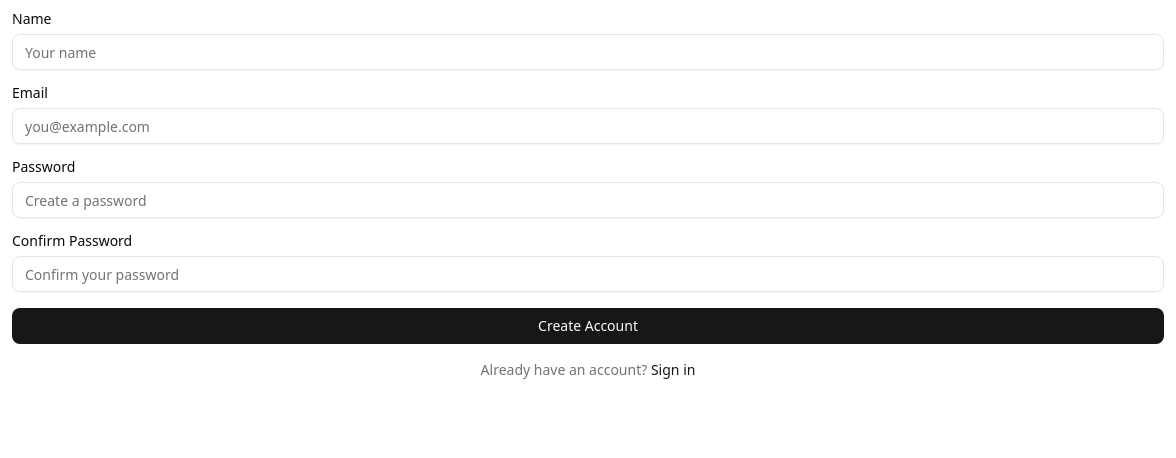
Test case: SignUpForm › shows error when passwords do not match
Type "Test User" into the field labelled "Name" at [588, 52], box [12,34,1164,70]
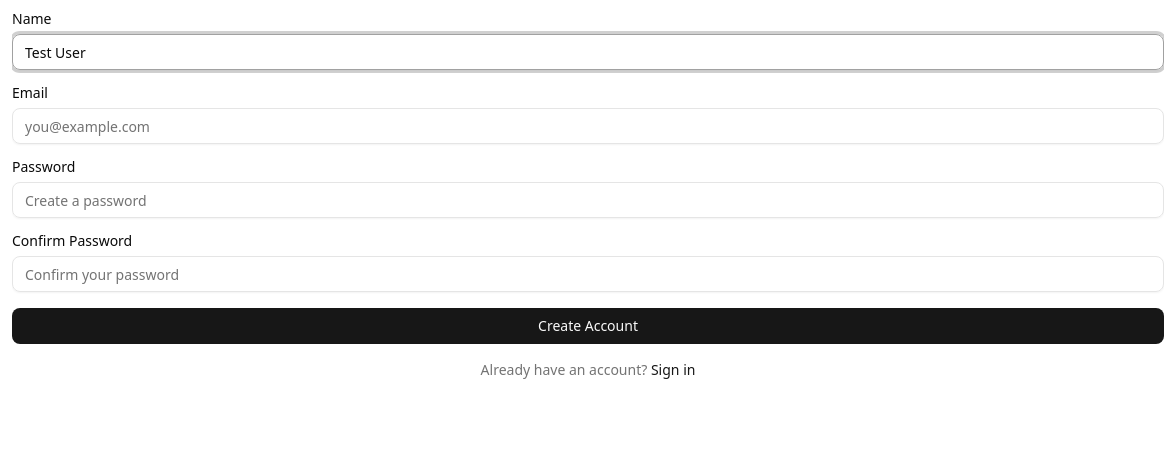
Type "test@example.com" into the field labelled "Email" at [588, 126], box [12,108,1164,144]
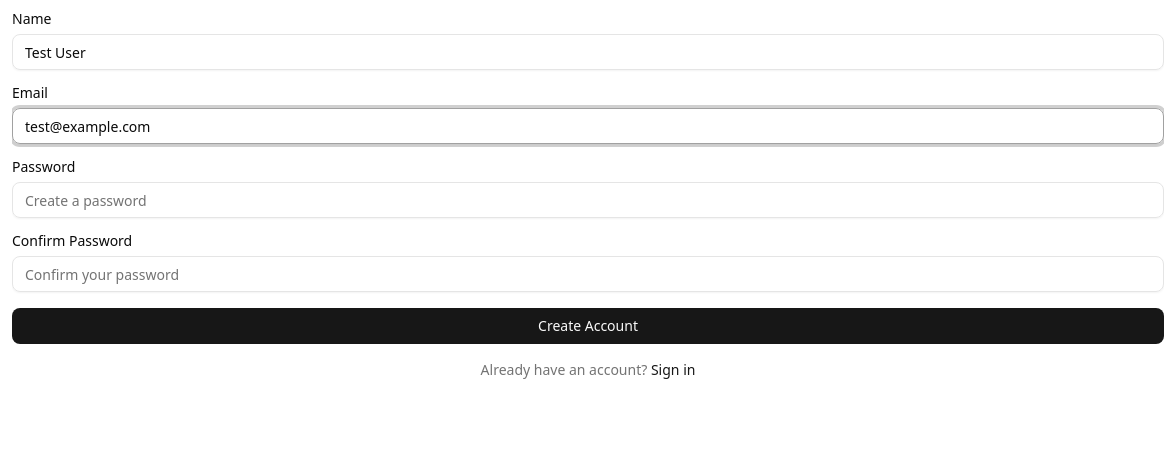
Type "password123" into the password field labelled "Password" at [588, 200], box [12,182,1164,218]
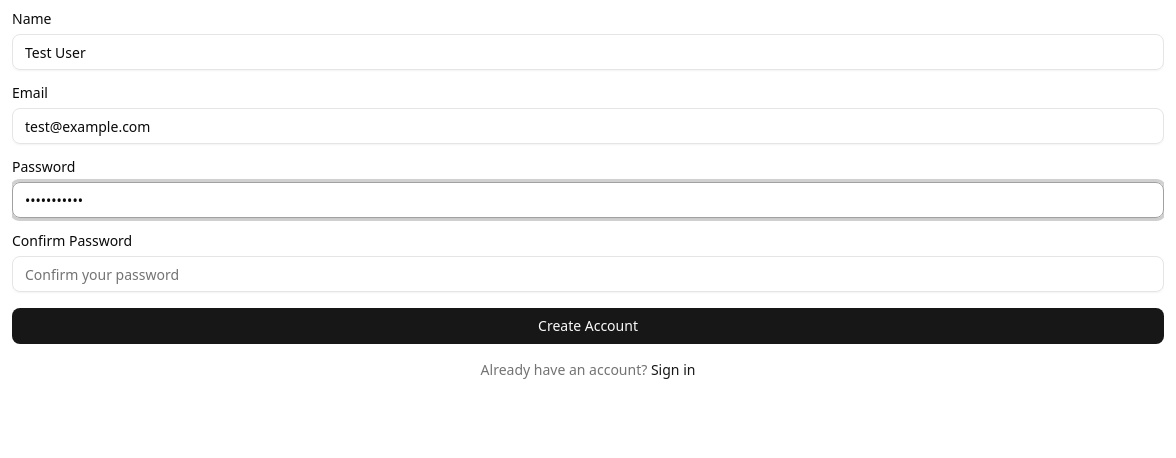
Type "different123" into the password field labelled "Confirm Password" at [588, 274], box [12,256,1164,292]
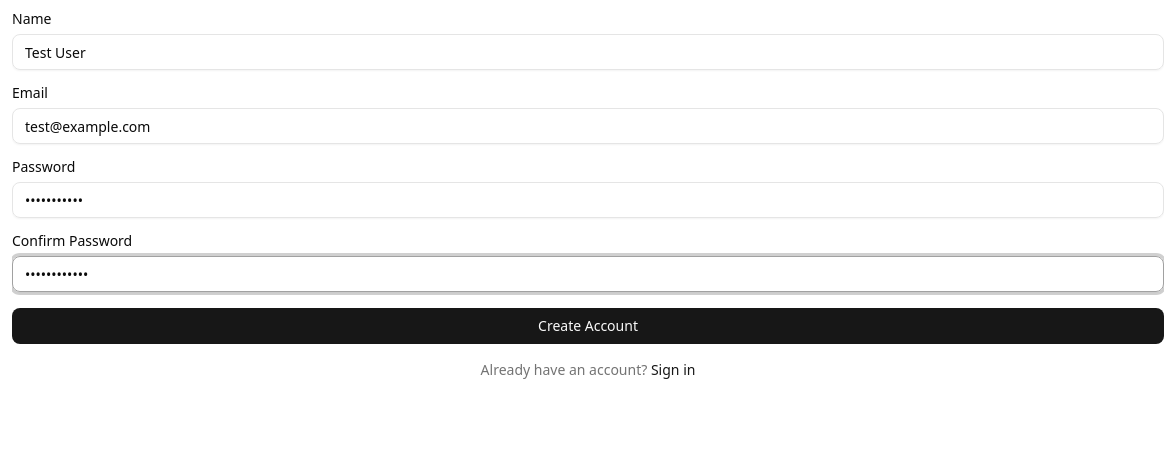
Click the button "Create Account" at [588, 326], box [12,308,1164,344]
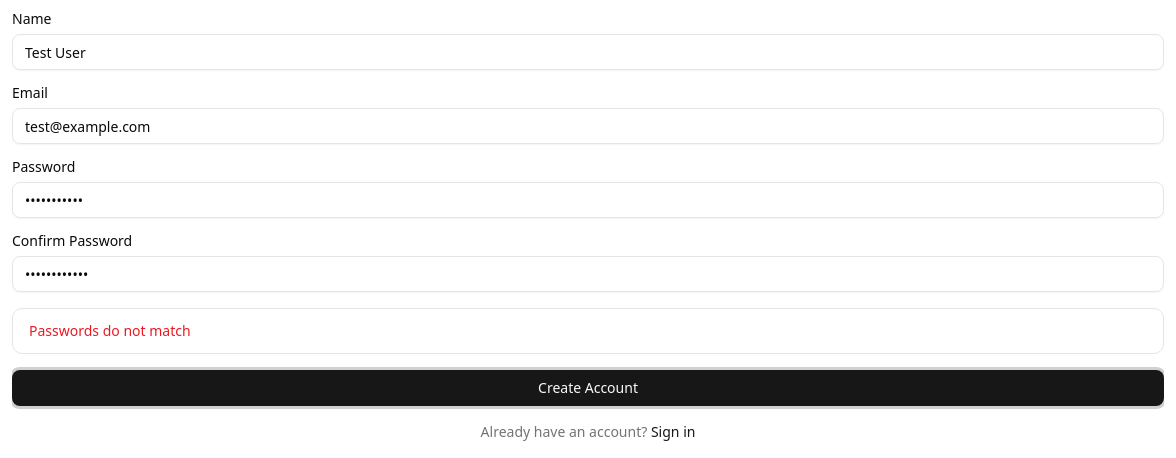
Now the text "Passwords do not match" is shown, box [29,321,191,340]
